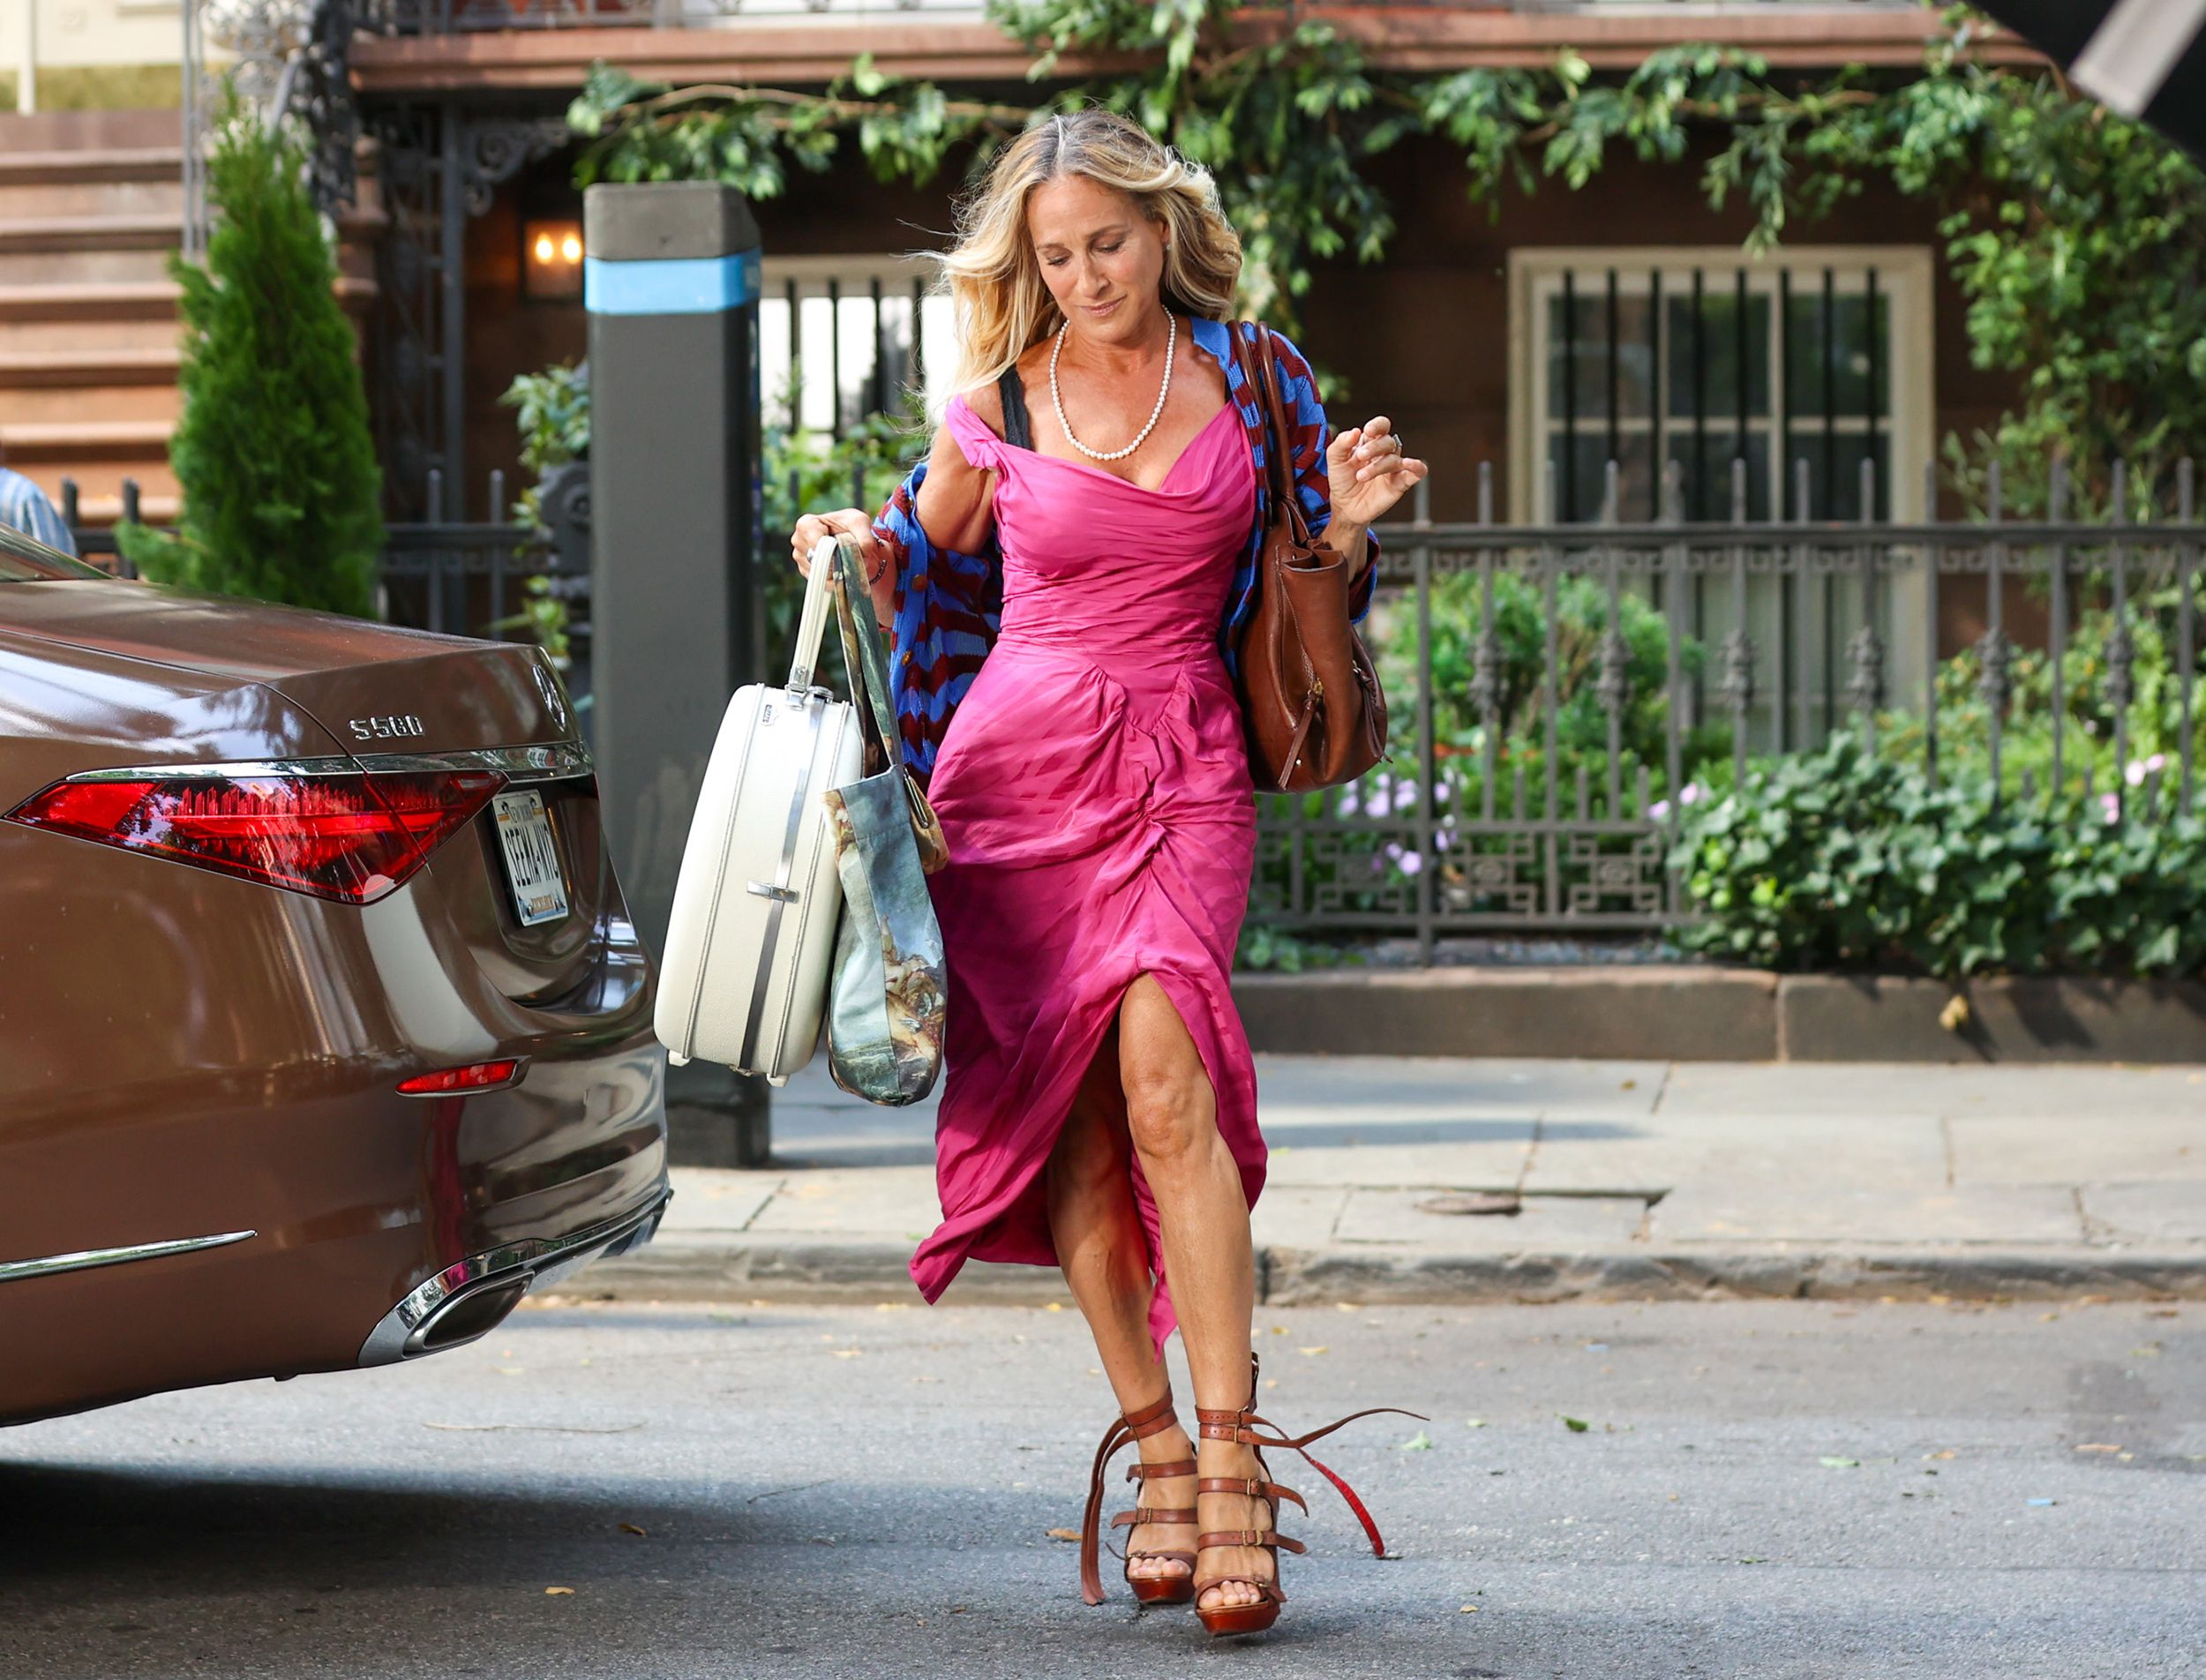person: (648, 88, 1437, 1676)
